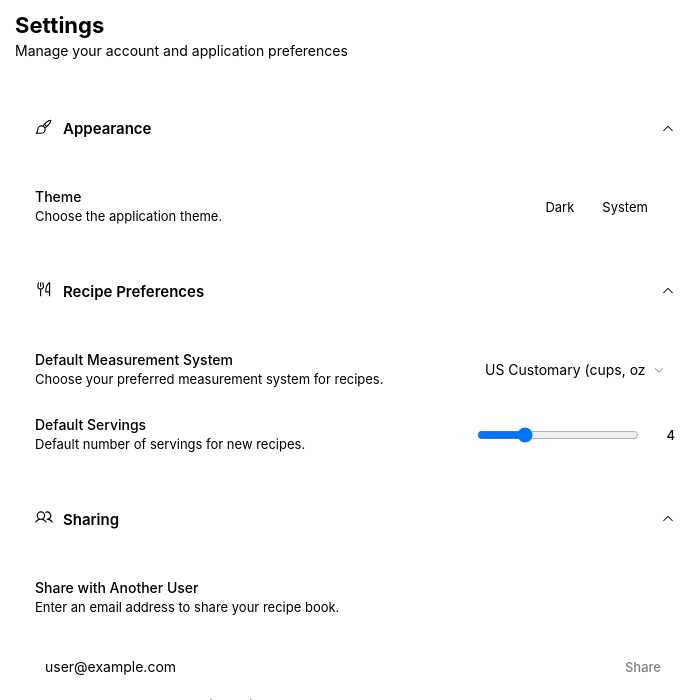
Test: SharingSection (within SettingsPage) › shows error text when share API fails
Step 1. Type "unknown@example.com" into the field with placeholder "user@example.com" → (319, 667), box [35,652,603,681]
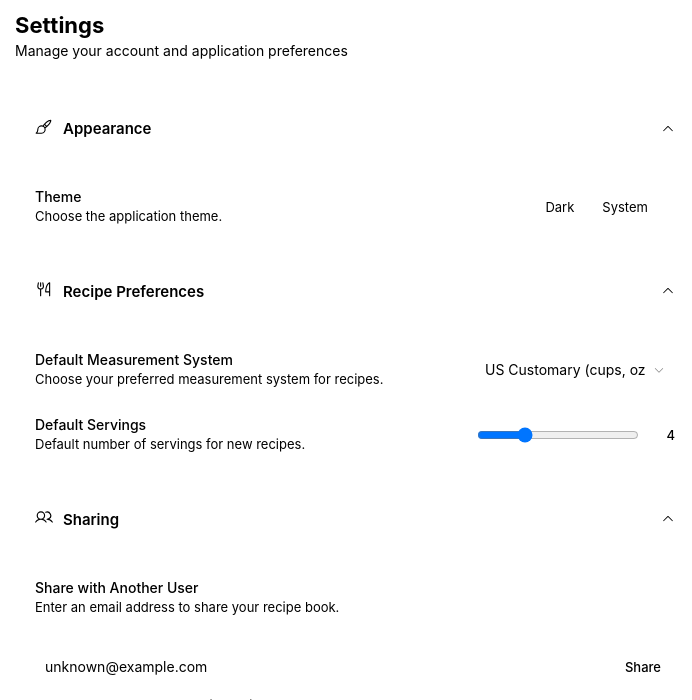
Step 2. Click the button "Share" → (643, 667), box [611,652,675,681]
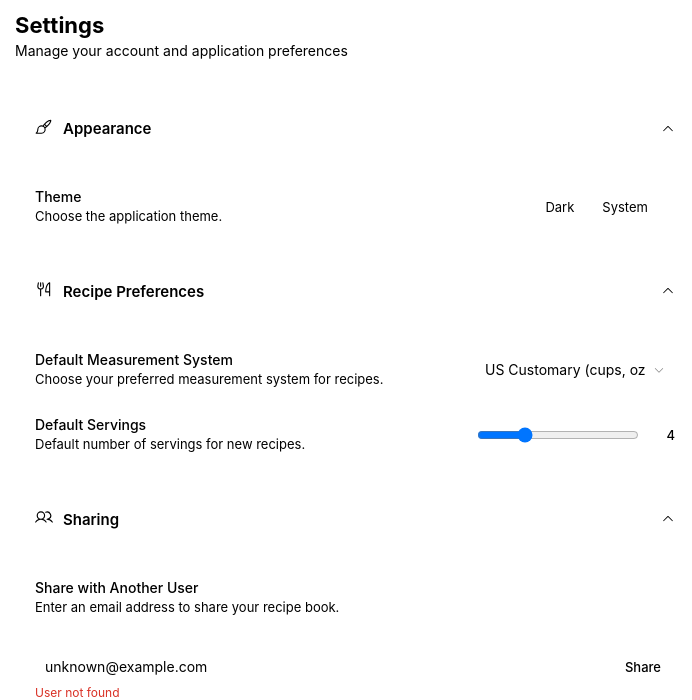
Expected: the text "User not found" is shown, [35,685,120,699]
